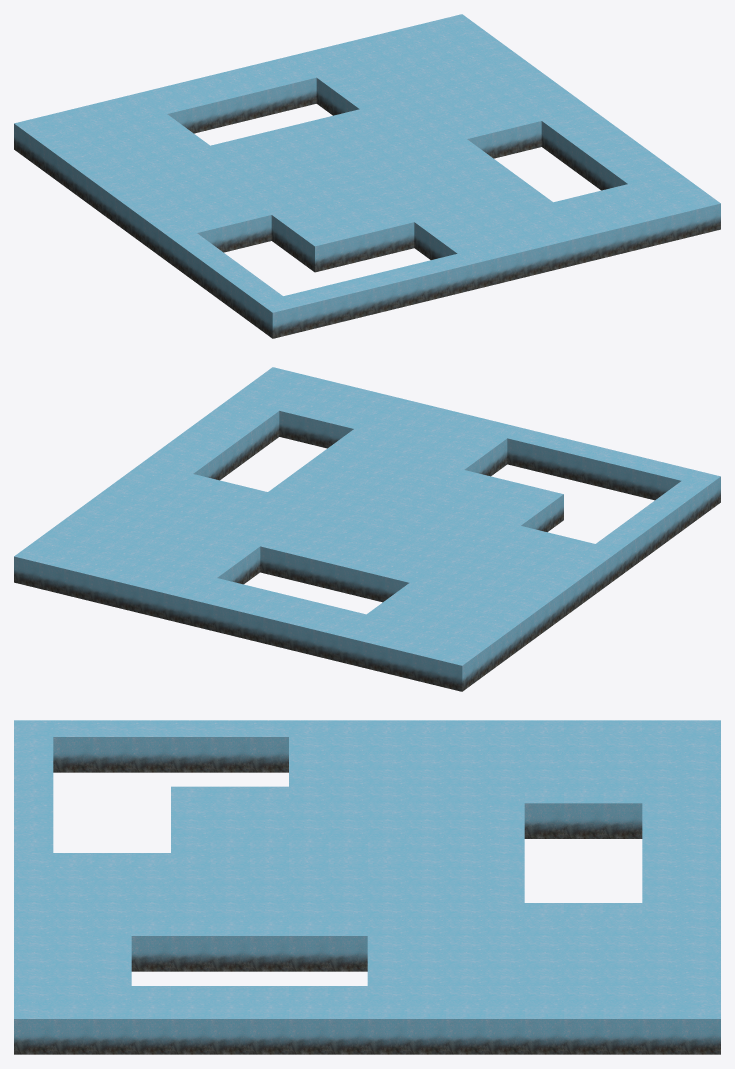
The model's file is Stage_Block_3_2_2F.fbx.
3 views of the same model, one above another, from view 1: azimuth 30°, elevation 25°; view 2: azimuth 150°, elevation 25°; view 3: azimuth 270°, elevation 25° (orthographic). The views are drawn at different scales.
Visible parts, largest first — view 1: Holl2_group5_polySurface57; view 2: Holl2_group5_polySurface57; view 3: Holl2_group5_polySurface57.
Part boxes in pixels (x1,y1,x2,y2): Holl2_group5_polySurface57: (14,14,720,338); Holl2_group5_polySurface57: (14,367,720,691); Holl2_group5_polySurface57: (14,720,720,1054).
Size of the model in its own units: 3600 by 200 by 3600.
1 material, 1 textured.
